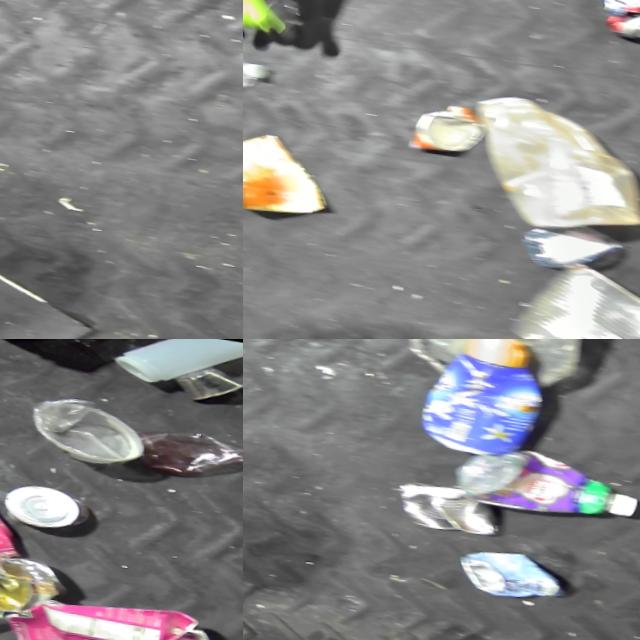can: (487, 245, 640, 339), (381, 475, 500, 542), (435, 540, 558, 602), (0, 468, 102, 542), (398, 94, 496, 159), (0, 544, 70, 617), (585, 0, 640, 41)
milk_jug: (453, 88, 640, 238)
non_white_jug: (406, 339, 554, 460)
plastic_bottle: (243, 36, 277, 103)
